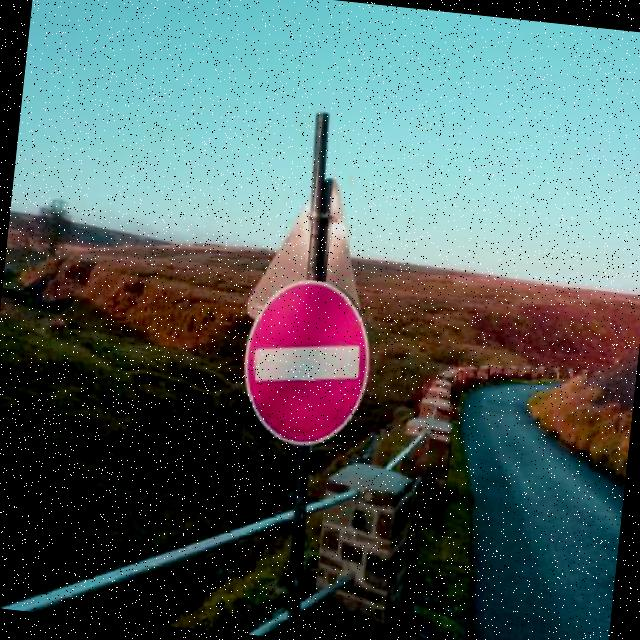Zakaz wjazdu: (238, 277, 378, 447)
